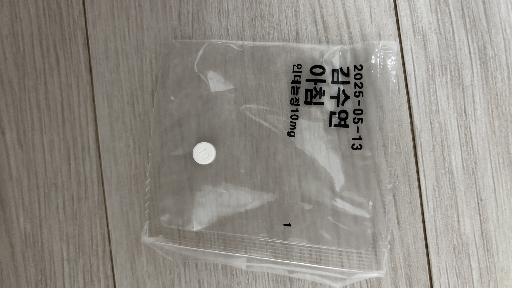Indenol: (142, 41, 398, 287), (193, 142, 216, 164)
